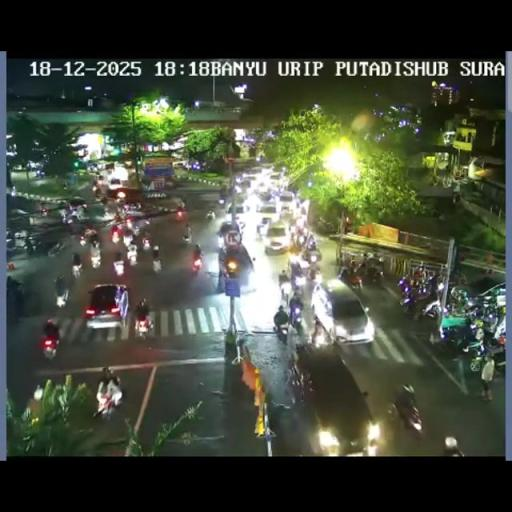Car: (316, 279, 370, 345), (84, 282, 130, 330), (264, 222, 290, 254), (256, 203, 278, 224), (240, 174, 262, 194), (227, 199, 249, 218), (278, 190, 295, 213), (268, 172, 283, 189), (172, 159, 189, 169), (109, 178, 122, 190)
Motorcycle: (99, 217, 160, 272), (286, 352, 314, 403), (95, 366, 122, 414), (393, 394, 423, 436), (442, 317, 478, 352), (485, 339, 506, 376), (317, 427, 341, 455), (363, 419, 382, 454), (398, 286, 420, 316), (420, 296, 445, 321), (134, 308, 154, 338), (308, 321, 330, 348), (448, 286, 469, 314), (340, 266, 362, 292), (41, 328, 58, 359), (300, 245, 322, 268), (490, 308, 506, 338), (358, 392, 374, 422), (366, 264, 384, 286), (190, 246, 204, 272), (424, 272, 438, 298), (290, 270, 306, 292), (54, 283, 68, 308), (274, 320, 289, 343), (278, 278, 292, 302), (267, 401, 292, 414), (48, 239, 66, 257), (316, 216, 335, 233), (462, 302, 482, 318), (450, 269, 468, 286), (306, 265, 322, 284), (292, 316, 305, 338), (90, 245, 102, 268), (133, 217, 151, 232), (113, 252, 125, 274), (104, 199, 118, 217), (126, 244, 138, 264), (122, 227, 134, 246), (110, 224, 122, 243), (122, 202, 138, 216), (82, 228, 97, 242), (24, 239, 37, 255), (92, 185, 105, 200), (359, 253, 372, 268), (72, 260, 82, 279), (412, 266, 423, 283), (152, 254, 162, 272), (6, 236, 16, 254), (398, 275, 410, 290), (75, 205, 86, 220), (175, 207, 186, 222), (141, 234, 151, 250), (216, 232, 225, 248), (60, 210, 70, 224), (124, 216, 134, 230), (182, 228, 191, 243), (236, 218, 245, 233), (116, 194, 126, 206), (348, 256, 358, 268), (34, 168, 45, 178), (206, 209, 215, 220), (482, 267, 492, 276), (39, 206, 48, 216), (114, 212, 122, 223), (218, 194, 226, 204), (234, 184, 242, 194), (10, 186, 16, 196)
